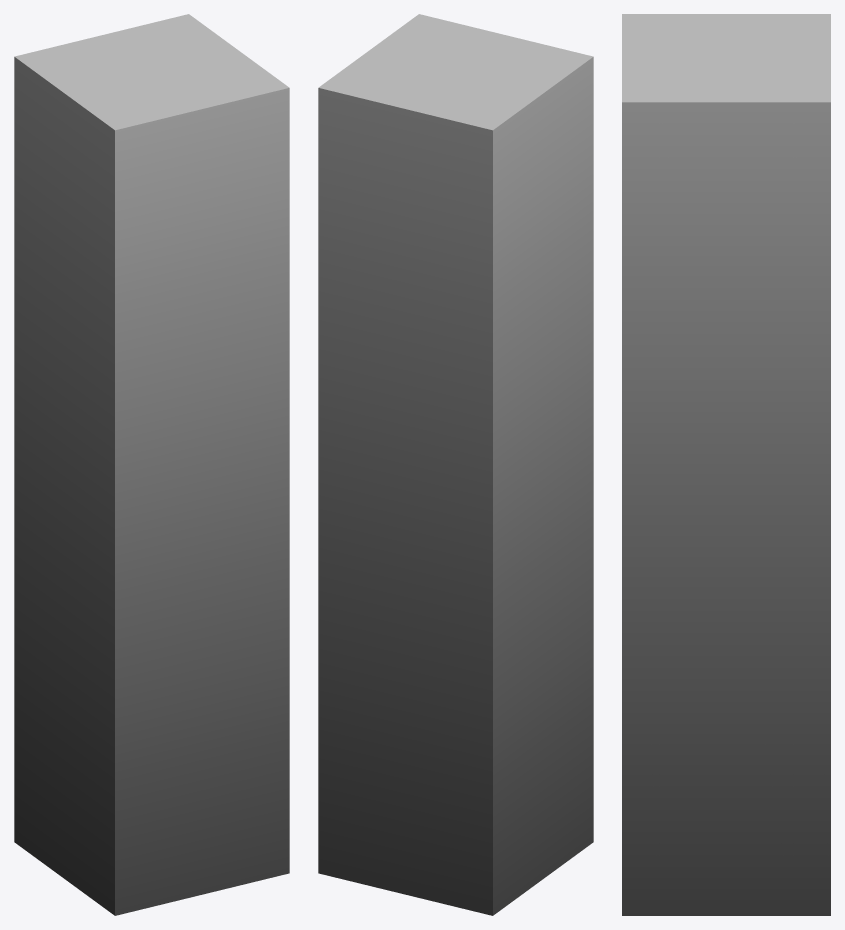
The model's file is PagerJ4.fbx.
3 views of the same model, side by side, from view 1: azimuth 30°, elevation 25°; view 2: azimuth 150°, elevation 25°; view 3: azimuth 270°, elevation 25° (orthographic). The views are drawn at different scales.
Visible parts, largest first — view 1: Pager j4_LOD0; view 2: Pager j4_LOD0; view 3: Pager j4_LOD0.
Boxes of the visible parts, x1,y1,x2,y2 form: Pager j4_LOD0: (14, 14, 289, 915); Pager j4_LOD0: (318, 14, 593, 915); Pager j4_LOD0: (622, 14, 830, 915).
Size of the model in its own units: 39.24 by 169 by 39.24.
